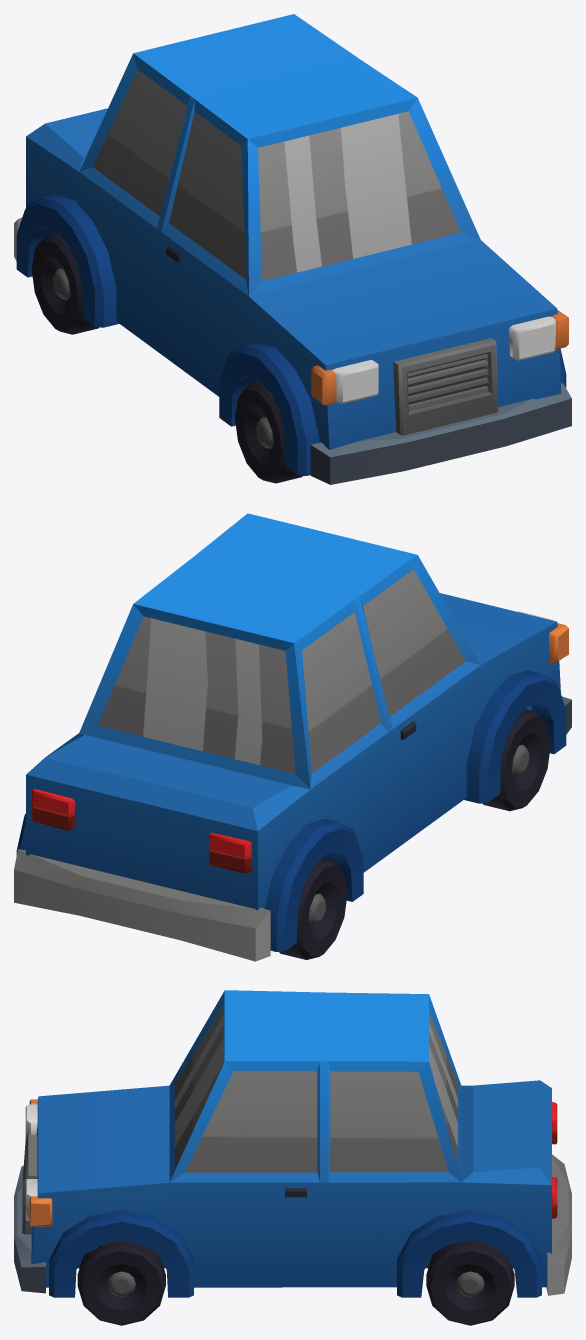
Rendered from Car_2_4.fbx.
The picture shows the model from 3 angles, top to bottom: view 1: azimuth 30°, elevation 25°; view 2: azimuth 150°, elevation 25°; view 3: azimuth 270°, elevation 25°; orthographic projection. The views are drawn at different scales.
Parts seen in each view (by area): view 1: Car_2_4, W_BR, W_FR; view 2: Car_2_4, W_FR, W_BR; view 3: Car_2_4, W_BL, W_FL.
Boxes of the visible parts, x1,y1,x2,y2 form: Car_2_4: (14,14,571,484); W_BR: (31,232,99,334); W_FR: (235,381,302,483); Car_2_4: (14,513,571,961); W_FR: (482,709,550,811); W_BR: (279,858,347,959); Car_2_4: (14,990,571,1297); W_BL: (426,1240,514,1325); W_FL: (77,1240,165,1325).
Bounding box in the file's own units: 1.09 × 1.11 × 2.28.
